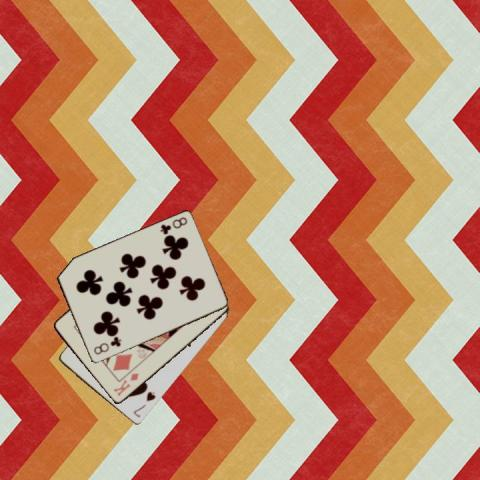7s: (130, 389, 157, 419)
8c: (90, 334, 122, 357), (157, 214, 189, 236)
Kd: (111, 370, 140, 398)
